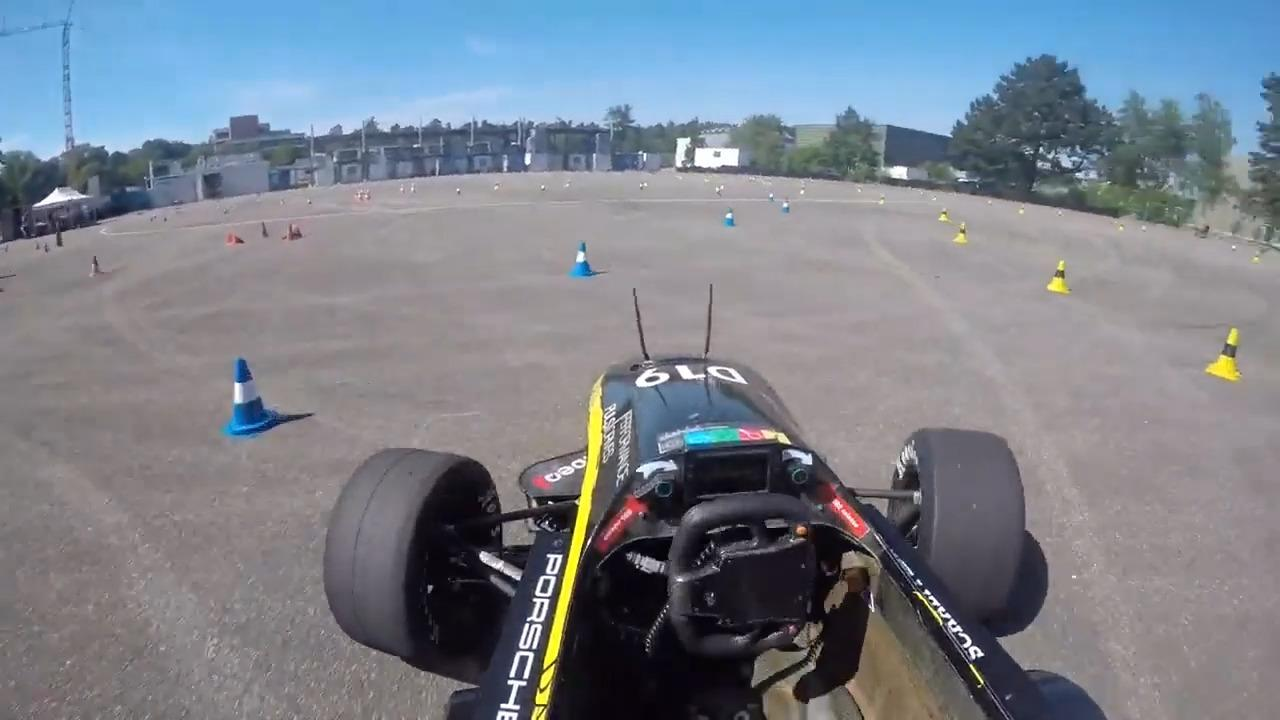blue_cone: (222, 357, 284, 442), (570, 241, 595, 278), (723, 207, 738, 228)
yellow_cone: (1206, 327, 1242, 380), (1047, 259, 1072, 294), (954, 221, 970, 243)
